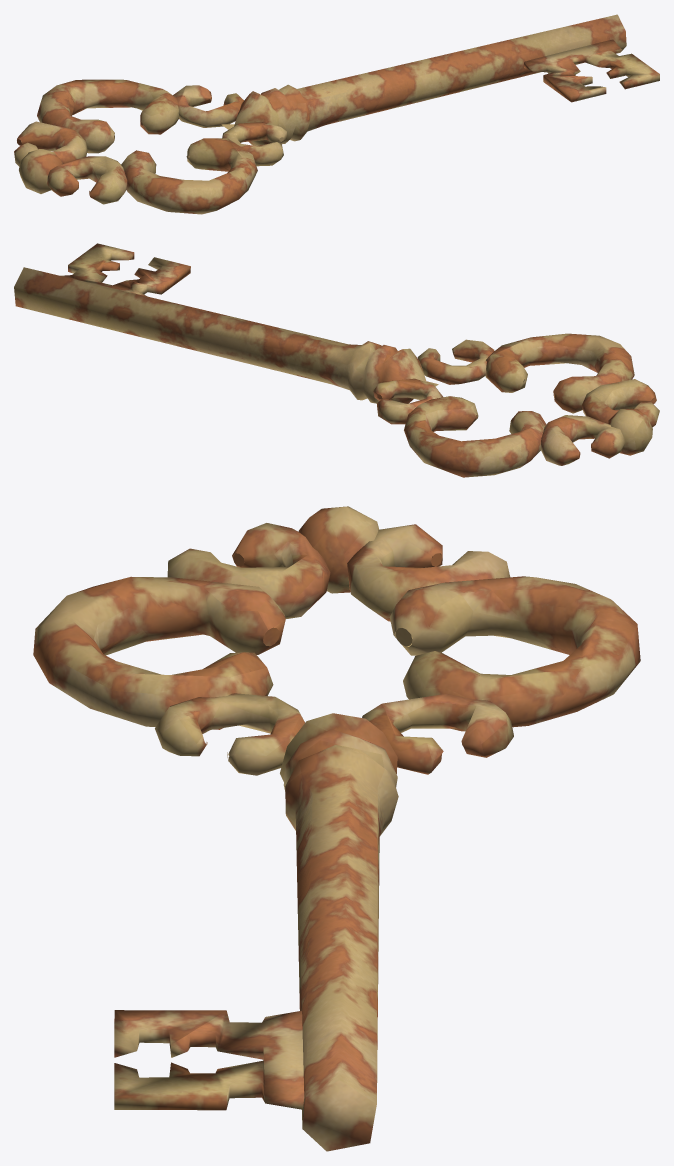
Rendered from Horror-Game-Assets.fbx.
3 renders of one model, top to bottom at view 1: azimuth 30°, elevation 25°; view 2: azimuth 150°, elevation 25°; view 3: azimuth 270°, elevation 25°, orthographic. The views are drawn at different scales.
Visible parts, largest first — view 1: Key; view 2: Key; view 3: Key.
Part boxes in pixels (x1=…): Key: x1=14, y1=14, x2=659, y2=214; Key: x1=14, y1=243, x2=659, y2=477; Key: x1=33, y1=506, x2=640, y2=1151.
Size of the model in its own units: 449 by 38.78 by 198.
